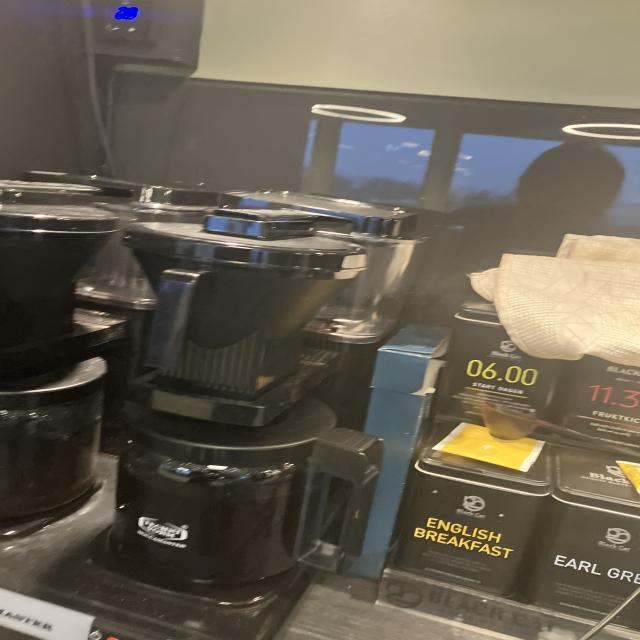coffee: (100, 399, 353, 588), (0, 352, 110, 536)
